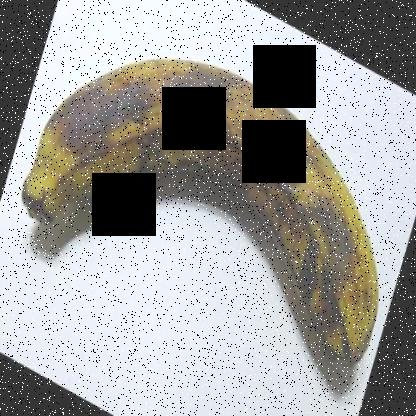overripe: (16, 44, 384, 370)
